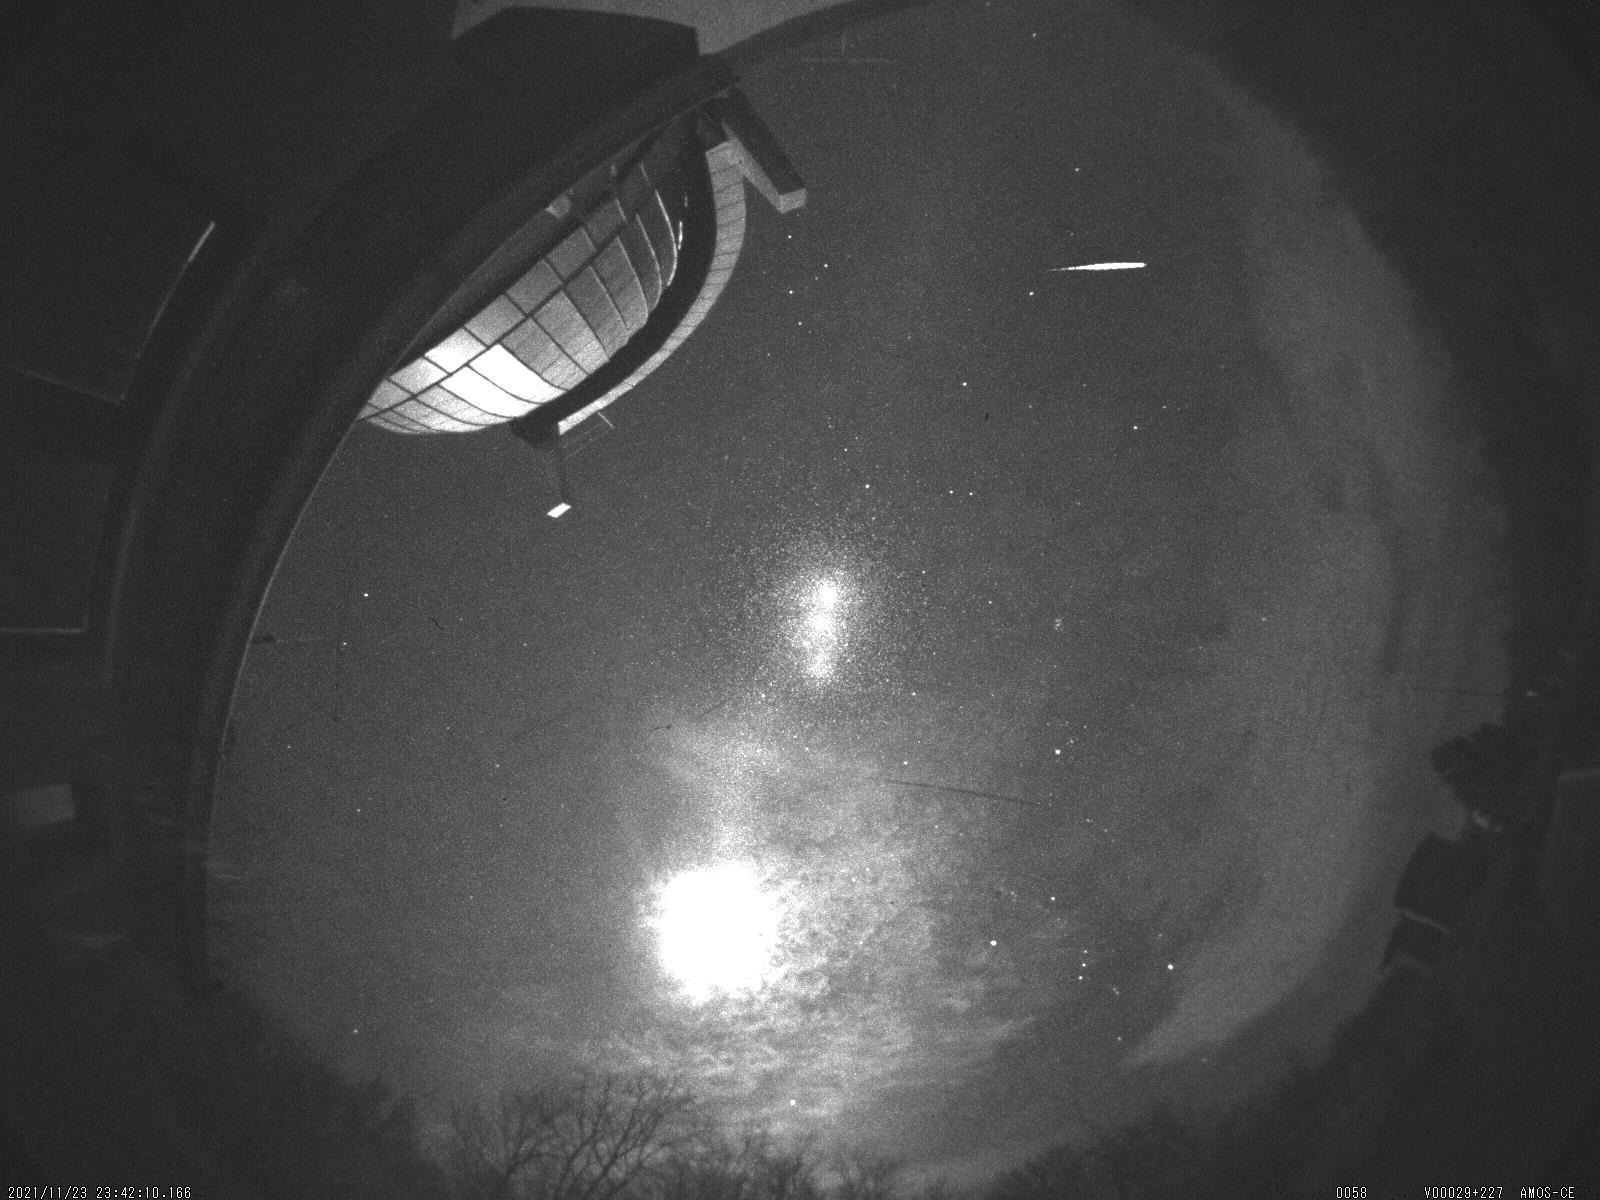Meteor: (1031, 252, 1164, 285)
